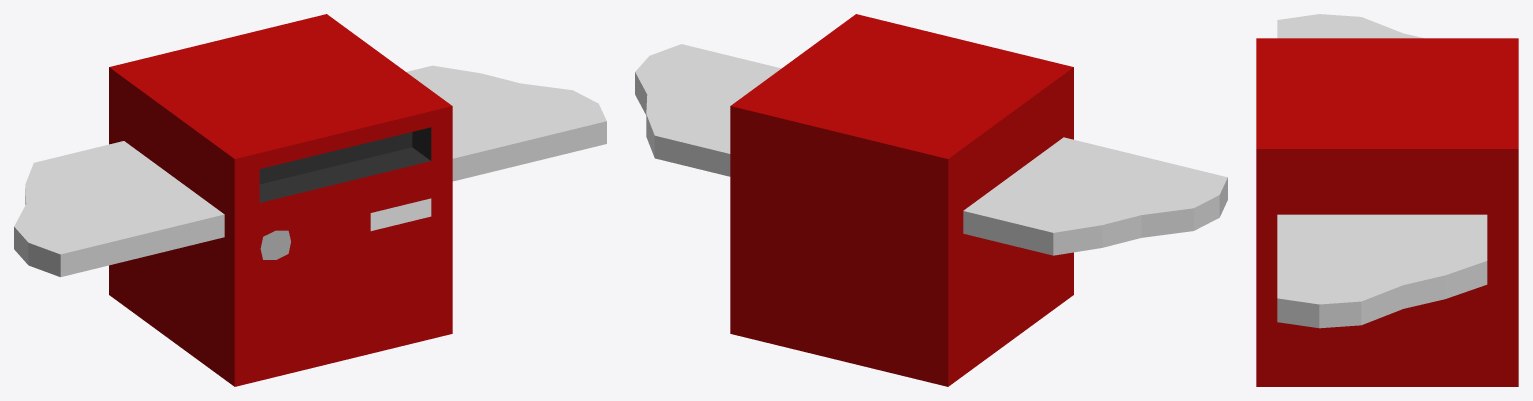
File: Boite.fbx
3 views of the same model, side by side, from view 1: azimuth 30°, elevation 25°; view 2: azimuth 150°, elevation 25°; view 3: azimuth 270°, elevation 25° (orthographic). The views are drawn at different scales.
Visible parts, largest first — view 1: letterbox, LeftWing, RightWing; view 2: letterbox, LeftWing, RightWing; view 3: letterbox, RightWing, LeftWing.
Boxes of the visible parts, left/top/right/bottom form: letterbox: left=109, top=14, right=452, bottom=386; LeftWing: left=14, top=141, right=224, bottom=277; RightWing: left=406, top=65, right=606, bottom=181; letterbox: left=730, top=14, right=1073, bottom=386; LeftWing: left=963, top=137, right=1227, bottom=255; RightWing: left=635, top=44, right=781, bottom=176; letterbox: left=1256, top=38, right=1518, bottom=386; RightWing: left=1277, top=214, right=1487, bottom=328; LeftWing: left=1277, top=14, right=1423, bottom=38.
Bounding box in the file's own units: 5238 × 2000 × 2000.
